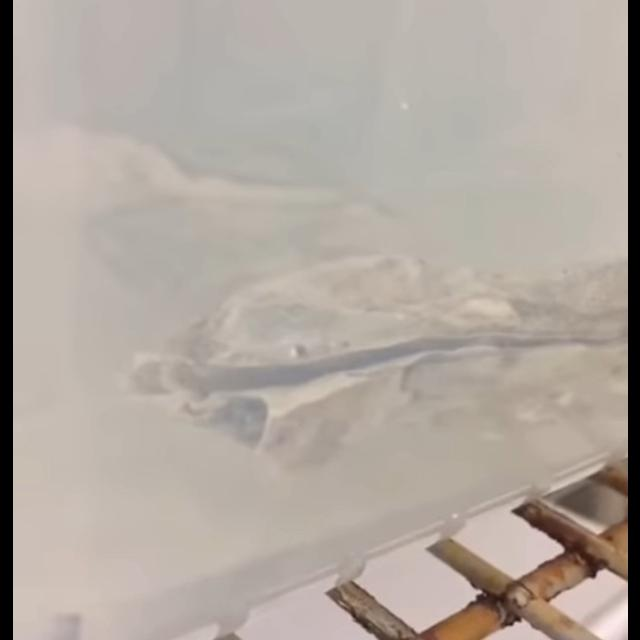Oyster-Closed: (66, 118, 360, 235)
Oyster-Open: (112, 254, 628, 473)
